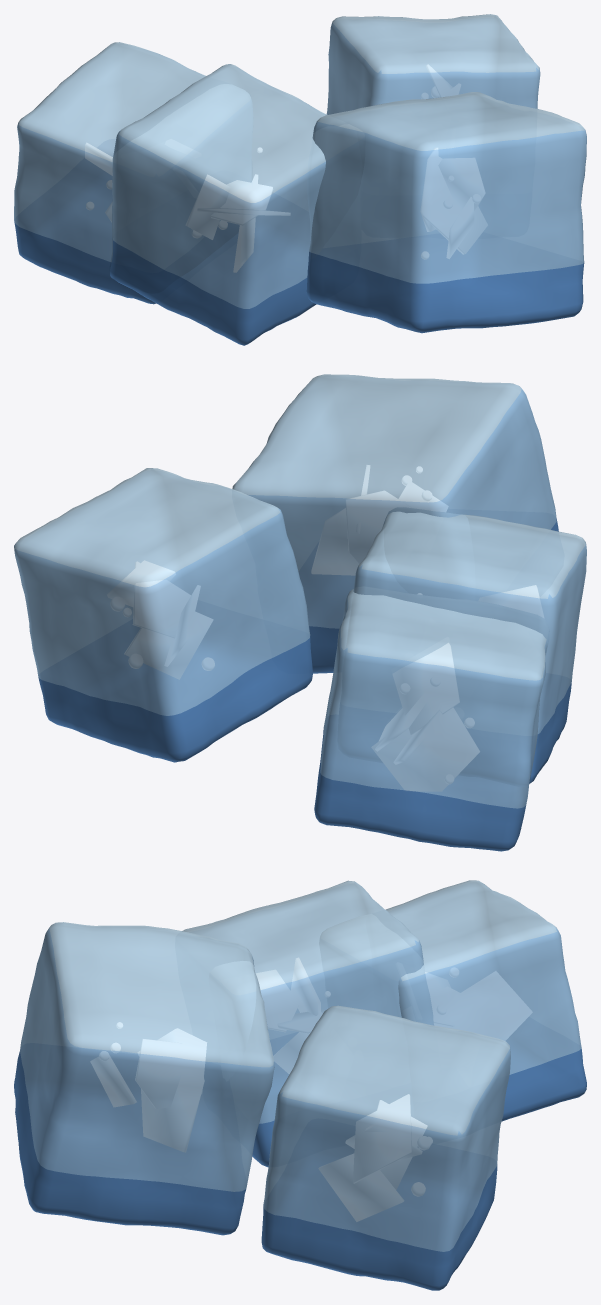
Rendered from ice_cubes.glb.
The picture shows the model from 3 angles, top to bottom: view 1: azimuth 30°, elevation 25°; view 2: azimuth 150°, elevation 25°; view 3: azimuth 270°, elevation 25°; orthographic projection. The views are drawn at different scales.
Visible parts, largest first — view 1: IceCube_2, IceCube_0, IceCube_3, IceCube_1; view 2: IceCube_1, IceCube_2, IceCube_3, IceCube_0; view 3: IceCube_2, IceCube_1, IceCube_3, IceCube_0.
Part boxes in pixels (left/top/right/bottom): IceCube_2: left=306, top=92, right=586, bottom=333; IceCube_0: left=110, top=64, right=364, bottom=345; IceCube_3: left=14, top=42, right=252, bottom=304; IceCube_1: left=326, top=14, right=540, bottom=114; IceCube_1: left=14, top=468, right=312, bottom=762; IceCube_2: left=232, top=374, right=558, bottom=673; IceCube_3: left=314, top=587, right=548, bottom=851; IceCube_0: left=338, top=508, right=586, bottom=786; IceCube_2: left=14, top=922, right=274, bottom=1235; IceCube_1: left=261, top=1005, right=510, bottom=1290; IceCube_3: left=319, top=880, right=586, bottom=1121; IceCube_0: left=182, top=880, right=433, bottom=1167.
Size of the model in its own units: 0.1466 by 0.0673 by 0.1415.
